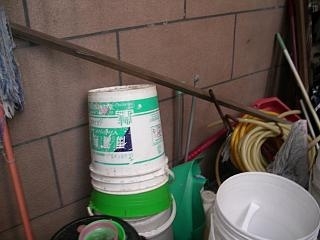bucket: (84, 82, 172, 197), (209, 170, 320, 238)
